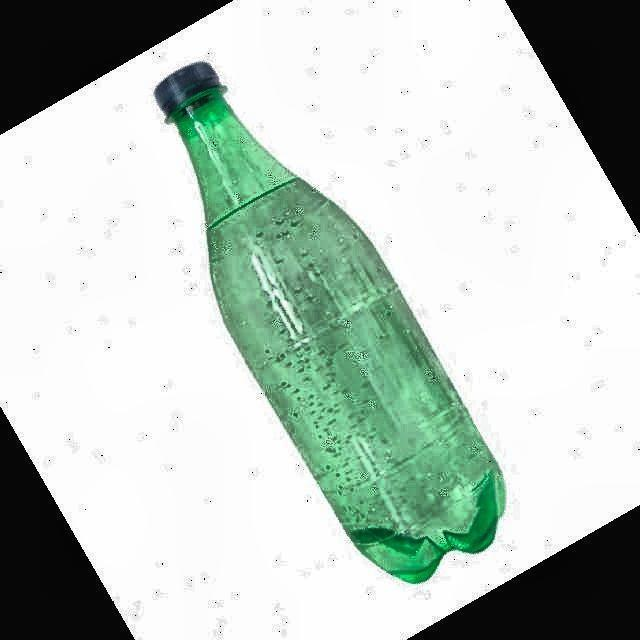plastic: (155, 64, 505, 582)
